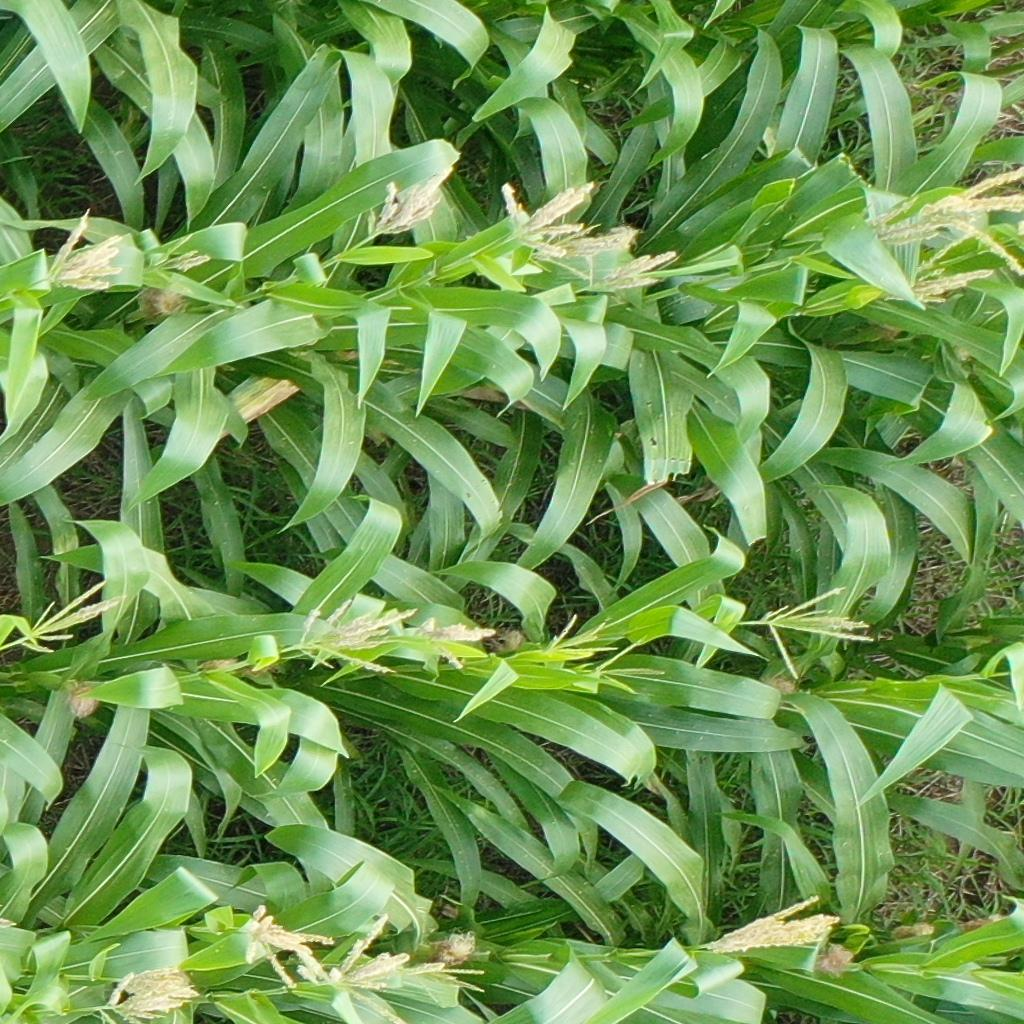Tassel: (857, 166, 1024, 275), (761, 585, 874, 682), (293, 598, 421, 682), (701, 893, 843, 958), (20, 580, 129, 654), (340, 913, 411, 1024), (497, 181, 598, 256), (239, 909, 334, 987), (906, 228, 997, 309), (48, 209, 126, 294), (535, 224, 637, 281), (372, 169, 453, 236), (587, 635, 663, 696), (96, 971, 183, 1024), (423, 614, 499, 674), (589, 249, 683, 296), (541, 614, 619, 664), (416, 958, 487, 1007), (148, 232, 216, 282), (118, 966, 194, 1001)
